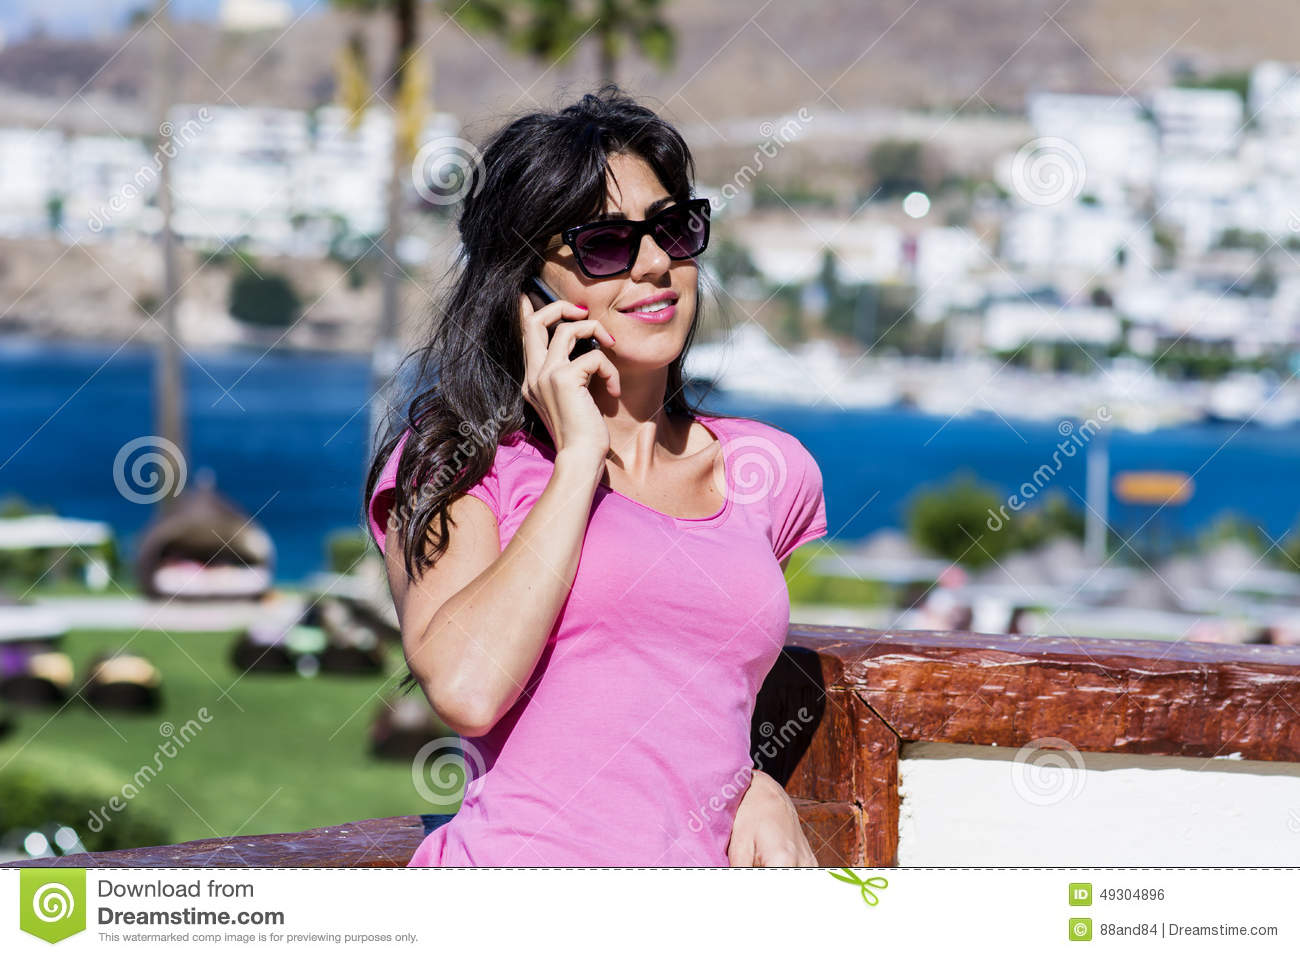phone: (524, 271, 600, 393)
talk: (519, 188, 703, 471)
